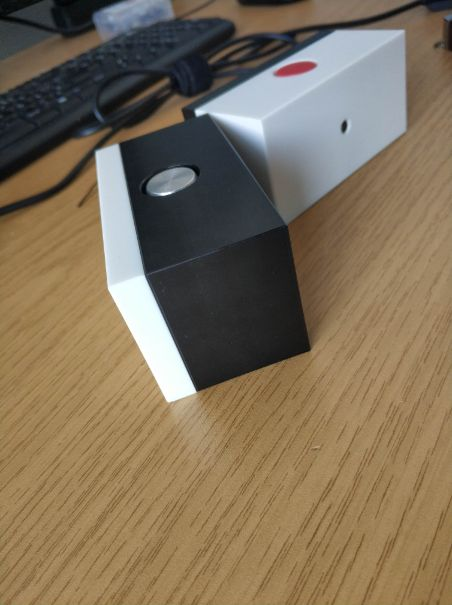black+white+red: (178, 23, 411, 231)
white+black+silver: (91, 112, 317, 405)
